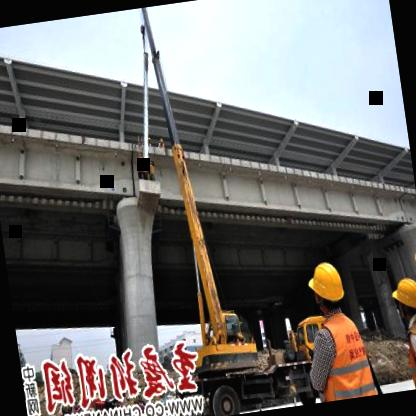helmet: (302, 256, 350, 320), (388, 270, 416, 327)
